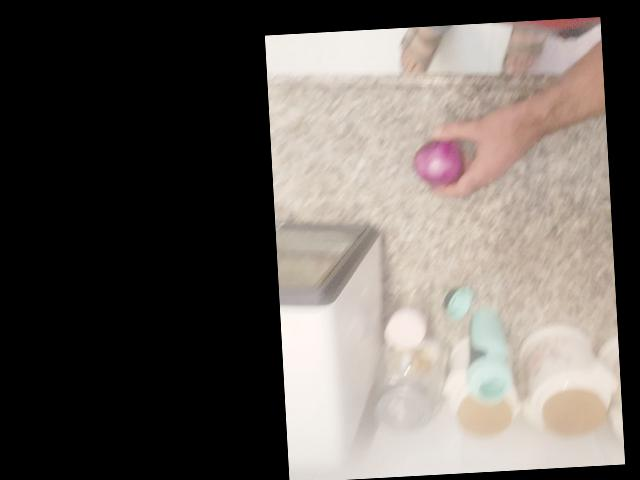onion: (280, 299, 334, 345)
